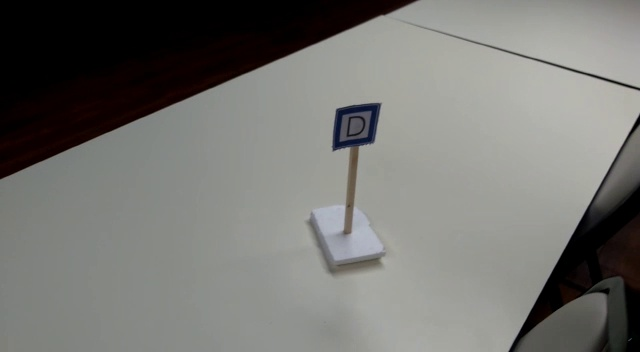durak: (331, 100, 381, 150)
